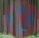No Stopping: (3, 0, 38, 35)
